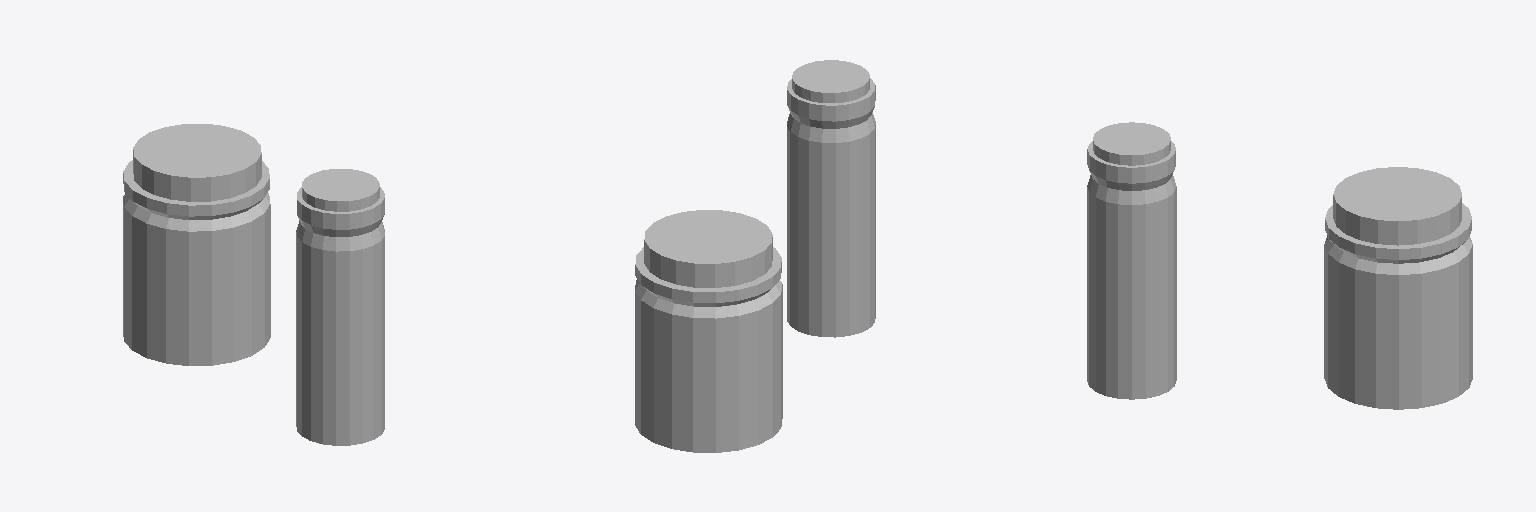
File: jarsLP.obj
3 renders of one model, left to right at view 1: azimuth 30°, elevation 25°; view 2: azimuth 150°, elevation 25°; view 3: azimuth 270°, elevation 25°, orthographic.
Parts seen in each view (by area): view 1: pCylinder14 polySurface53, pCylinder14 polySurface489, pCylinder14 polySurface54, polySurface529 pCylinder14; view 2: pCylinder14 polySurface53, pCylinder14 polySurface489, pCylinder14 polySurface54, polySurface529 pCylinder14; view 3: pCylinder14 polySurface53, pCylinder14 polySurface489, pCylinder14 polySurface54, polySurface529 pCylinder14.
Part boxes in pixels (bbox=[...]): pCylinder14 polySurface53: bbox=[123, 160, 270, 365]; pCylinder14 polySurface489: bbox=[296, 187, 384, 445]; pCylinder14 polySurface54: bbox=[133, 124, 261, 201]; polySurface529 pCylinder14: bbox=[302, 169, 379, 211]; pCylinder14 polySurface53: bbox=[635, 247, 782, 452]; pCylinder14 polySurface489: bbox=[787, 78, 875, 337]; pCylinder14 polySurface54: bbox=[644, 210, 772, 287]; polySurface529 pCylinder14: bbox=[792, 60, 869, 102]; pCylinder14 polySurface53: bbox=[1324, 203, 1472, 409]; pCylinder14 polySurface489: bbox=[1087, 141, 1176, 399]; pCylinder14 polySurface54: bbox=[1333, 167, 1461, 245]; polySurface529 pCylinder14: bbox=[1093, 122, 1170, 165].
Size of the model in its own units: 0.3554 by 0.6469 by 0.9233.